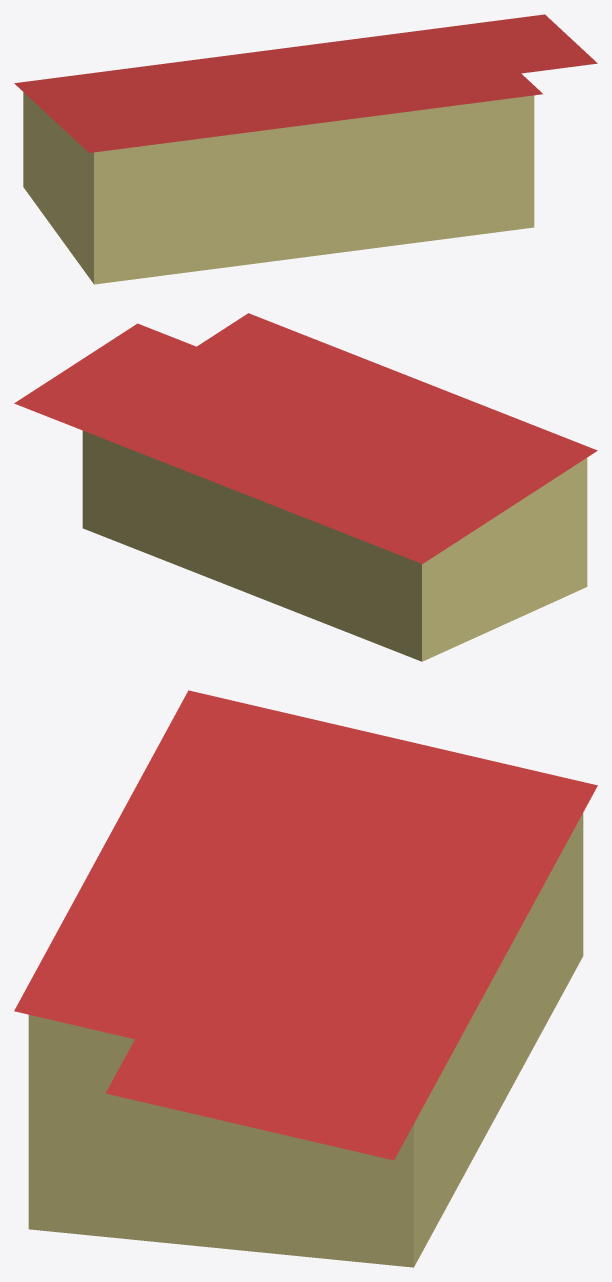
3 views of the same model, one above another, from view 1: azimuth 30°, elevation 25°; view 2: azimuth 150°, elevation 25°; view 3: azimuth 270°, elevation 25° (orthographic). The views are drawn at different scales.
Bounding box in the file's own units: 40.04 × 23.82 × 9.99.
